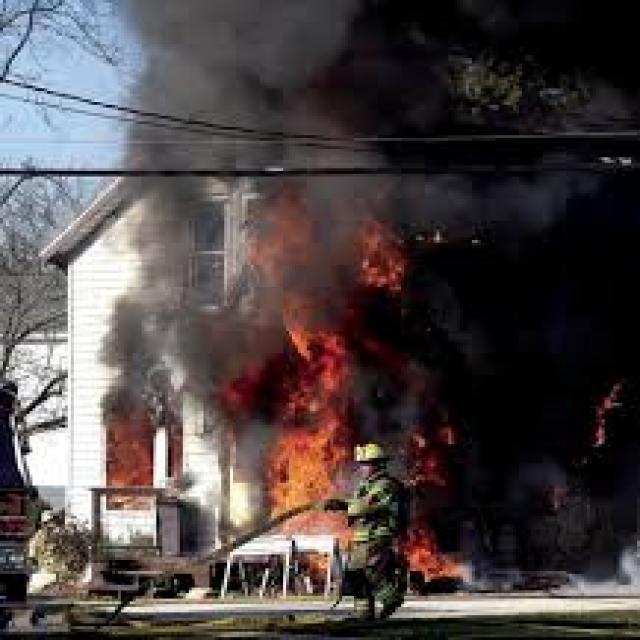fire: (242, 199, 469, 590), (104, 417, 156, 508), (351, 215, 410, 292)
smoke: (112, 6, 401, 166), (313, 171, 602, 259), (97, 295, 177, 425), (133, 174, 218, 292)
